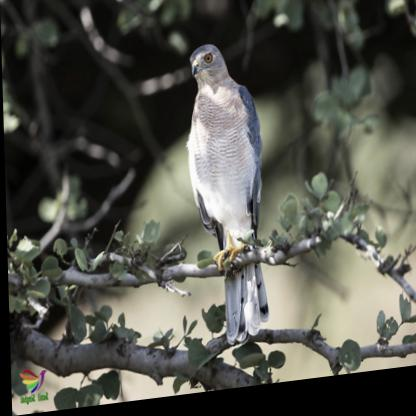Burung: (184, 43, 268, 353)
